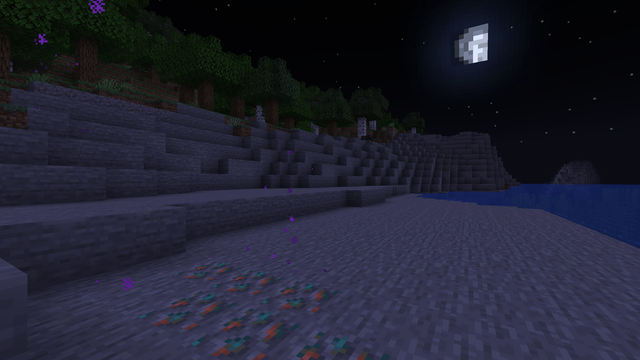araignees: (359, 134, 371, 141)
